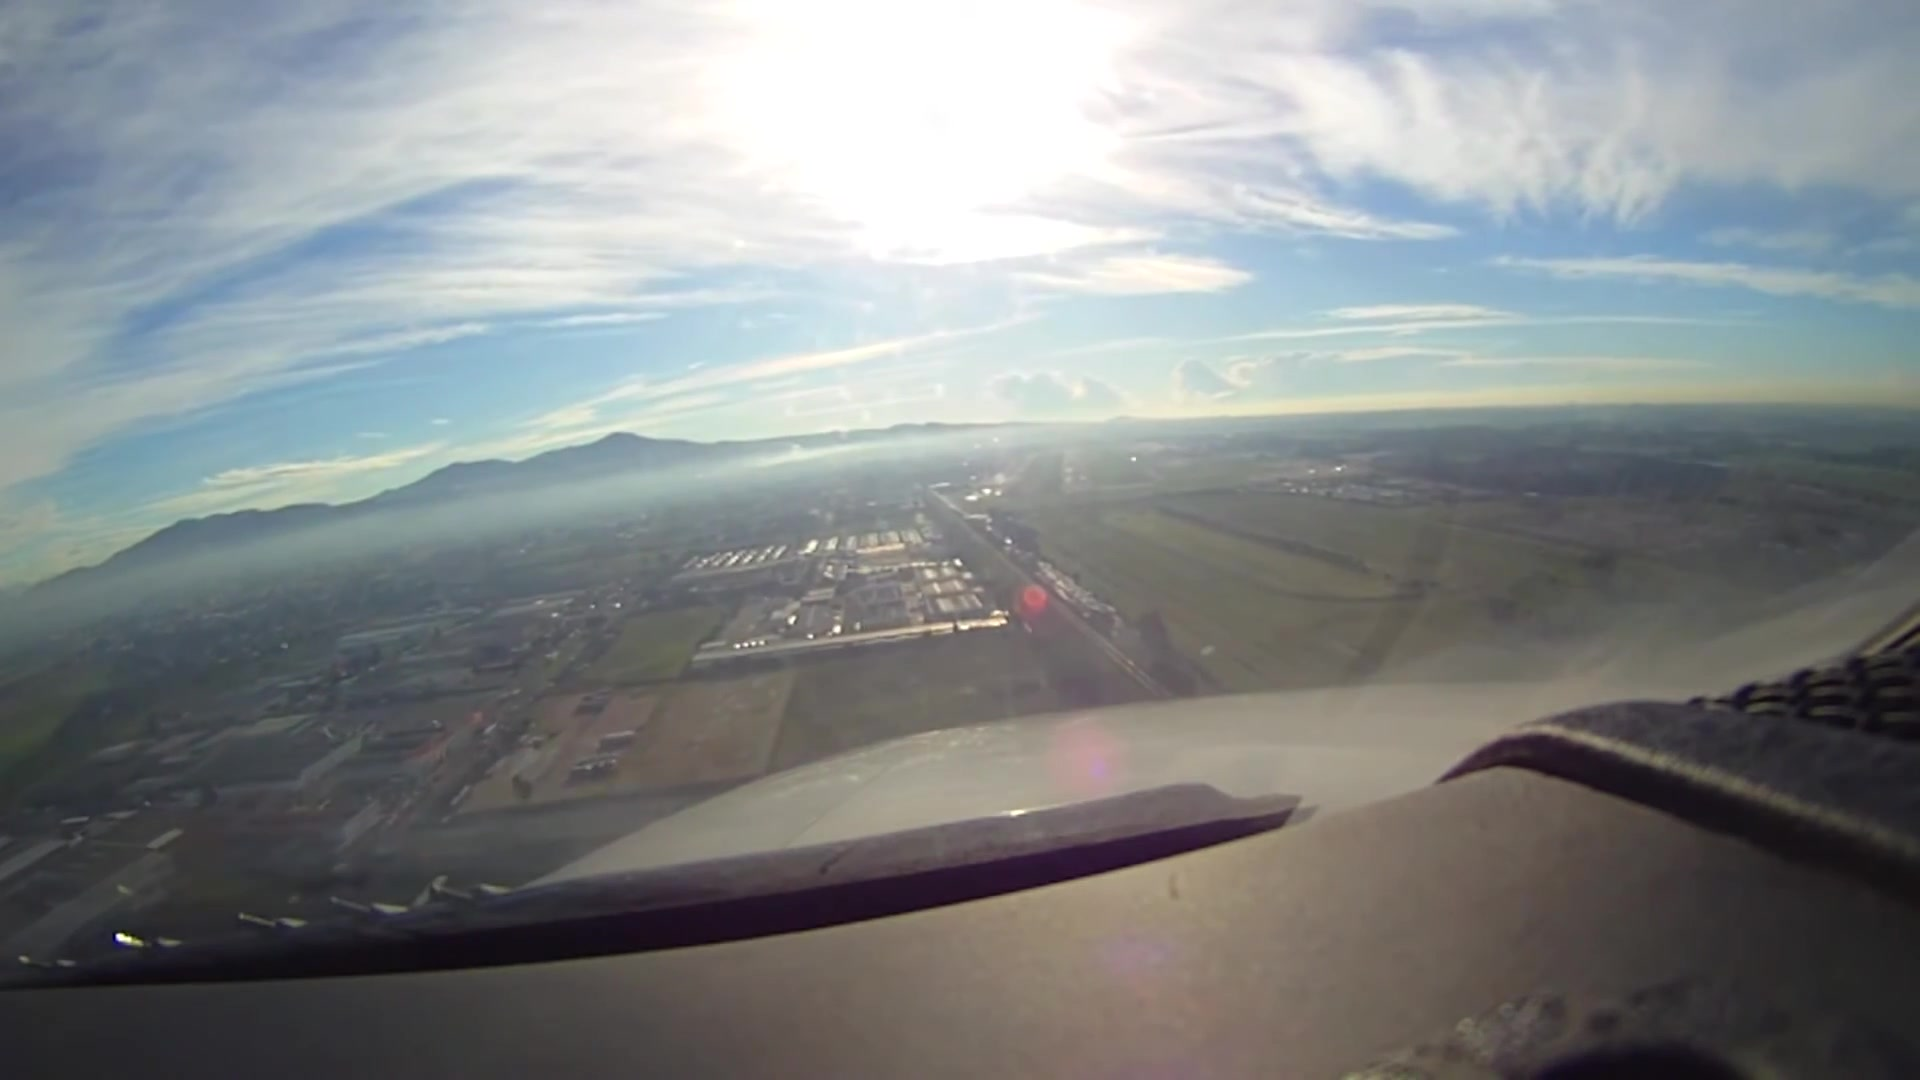runway: (1059, 448, 1093, 493)
